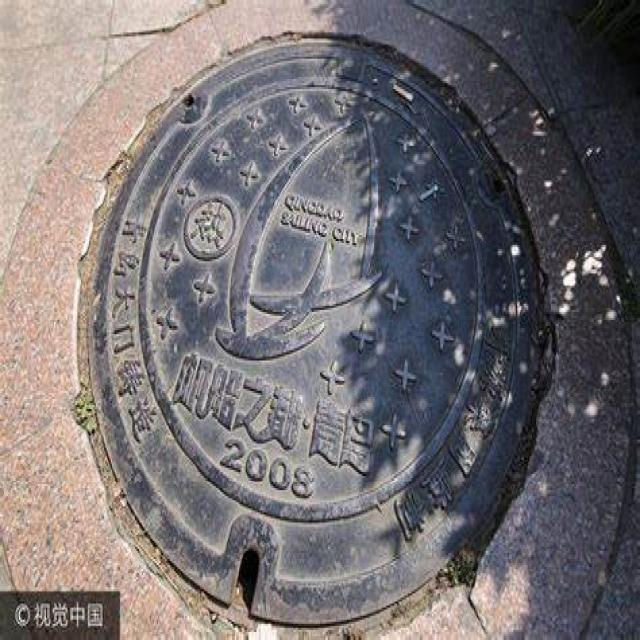manhole: (91, 36, 545, 624)
